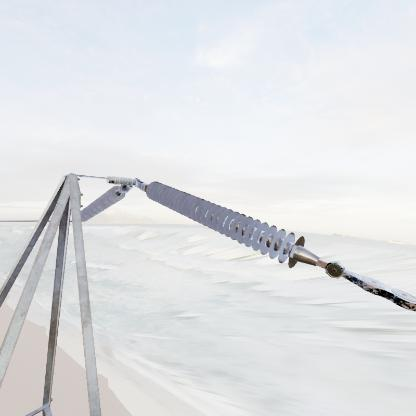insulator: (145, 179, 320, 264), (80, 184, 127, 218)
